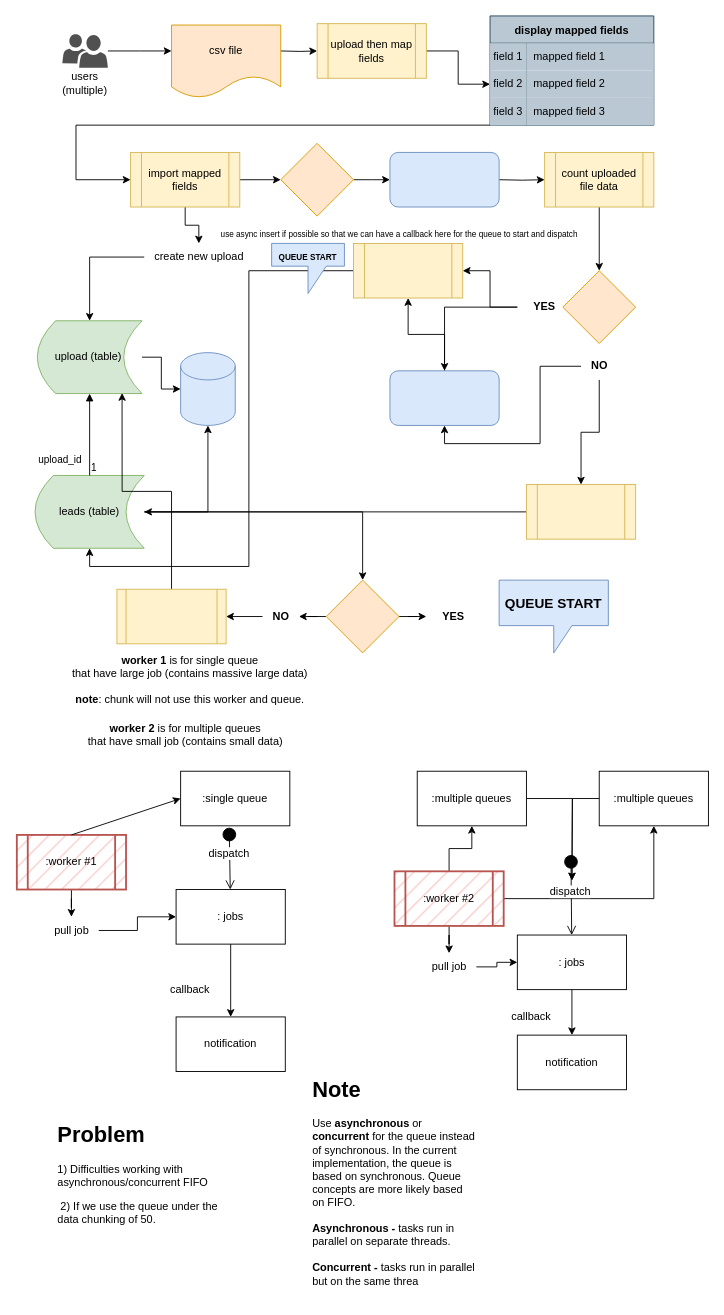
This 724x1315 diagram has some shape labels left out. The shapes that lost their labels are listed below. From the top down, each one's centre as x and y in pixels, then its label:
At (317,179): "conditions".
At (444,179): ":object = mapped fields and values".
At (408,270): "create data to leads".
At (599,307): "data = 50".
At (207,388): "database".
At (444,397): ":object = leads array".
At (581,511): "create remaining data to leads".
At (171,616): "delete upload record".
At (362,616): "count created leads that is greater than 0".
